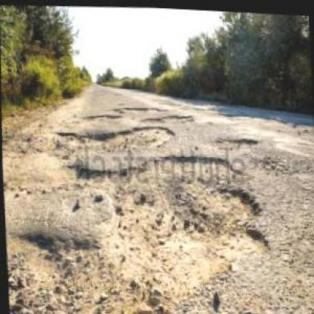Hueco: (96, 144, 278, 314), (49, 116, 176, 160), (109, 101, 165, 127), (212, 132, 260, 150), (141, 108, 195, 124)
